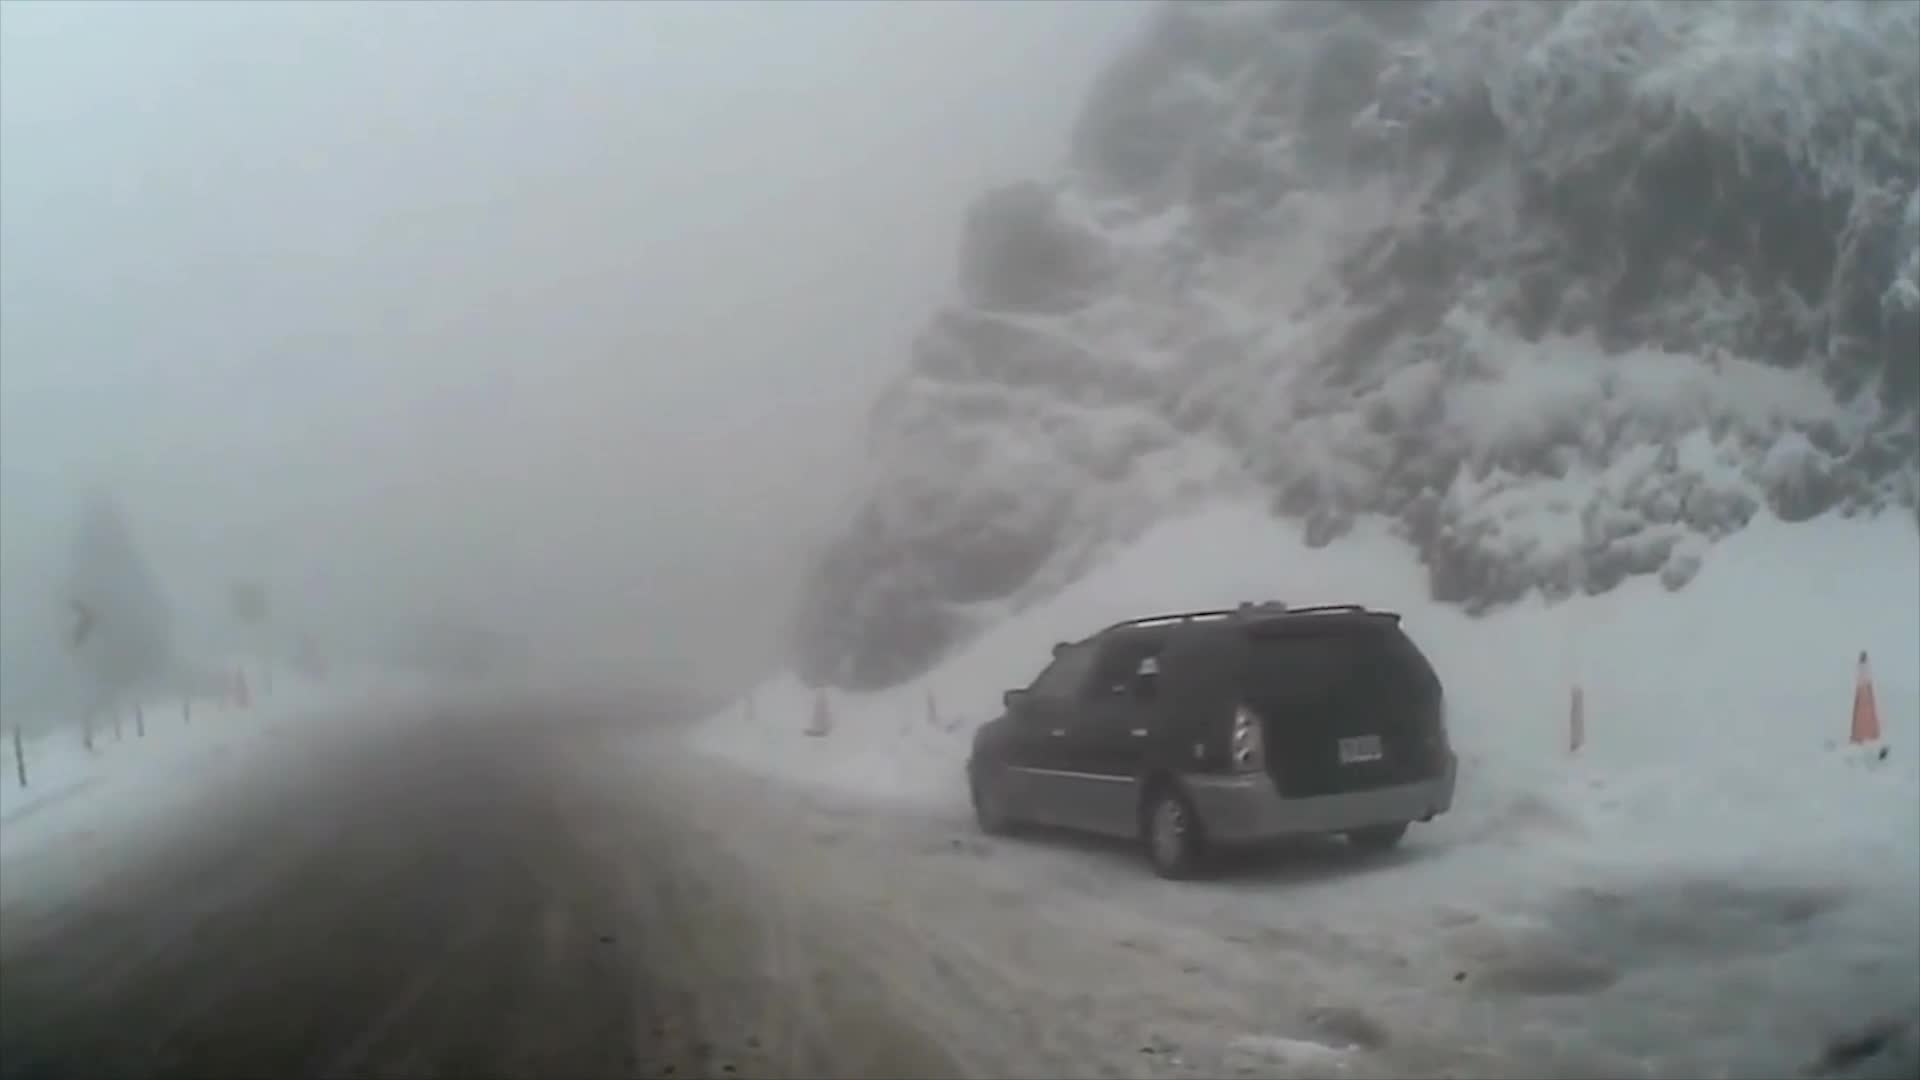vehicle: (965, 597, 1461, 877)
